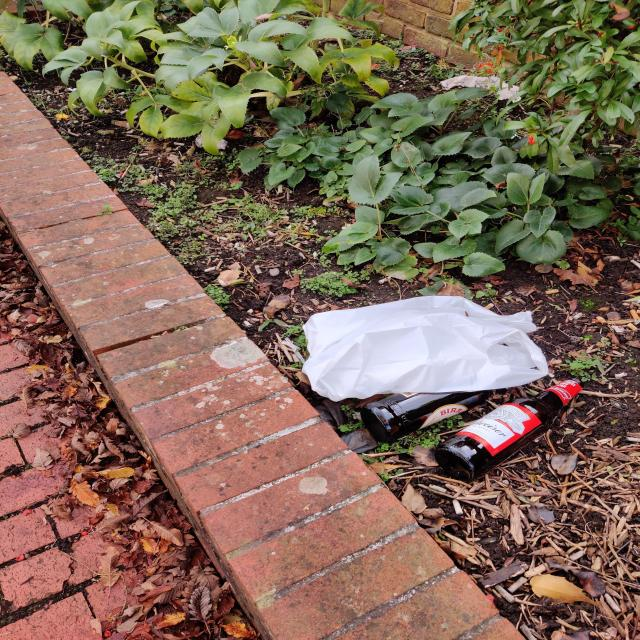litter: (301, 296, 549, 401), (434, 377, 584, 482), (360, 390, 491, 442), (439, 76, 520, 99), (284, 336, 307, 365), (610, 400, 629, 410), (452, 499, 463, 515), (378, 276, 392, 284), (595, 316, 608, 324), (544, 288, 558, 294), (483, 303, 493, 310), (173, 142, 184, 146)
